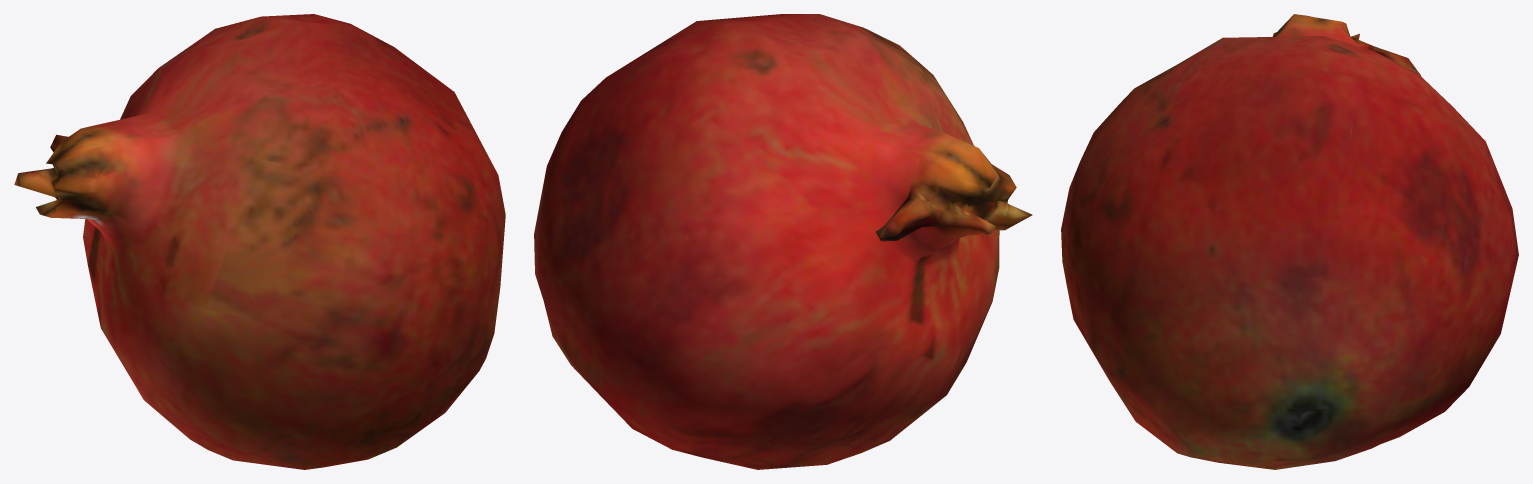
The model's file is SM_配餐室_水果蔬菜_04.fbx.
The picture shows the model from 3 angles, left to right: view 1: azimuth 30°, elevation 25°; view 2: azimuth 150°, elevation 25°; view 3: azimuth 270°, elevation 25°; orthographic projection. The views are drawn at different scales.
Parts seen in each view (by area): view 1: SM_配餐室_水果蔬菜_04; view 2: SM_配餐室_水果蔬菜_04; view 3: SM_配餐室_水果蔬菜_04.
Part boxes in pixels (box(x1,y1,x2,y2)): SM_配餐室_水果蔬菜_04: box(14, 14, 505, 469); SM_配餐室_水果蔬菜_04: box(534, 14, 1032, 469); SM_配餐室_水果蔬菜_04: box(1061, 14, 1518, 469).
Bounding box in the file's own units: 133 × 117 × 118.
